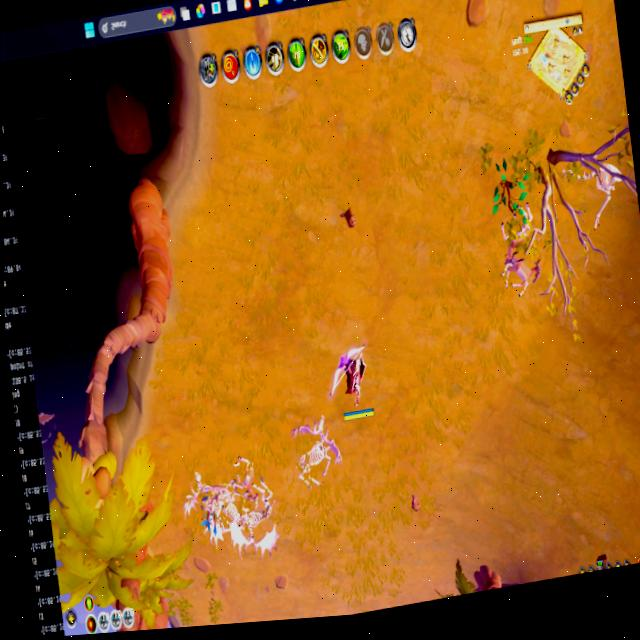mob: (497, 236, 547, 302), (228, 447, 261, 501)
red: (326, 341, 377, 427)
